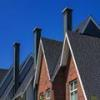chimneys: (34, 28, 40, 68)
